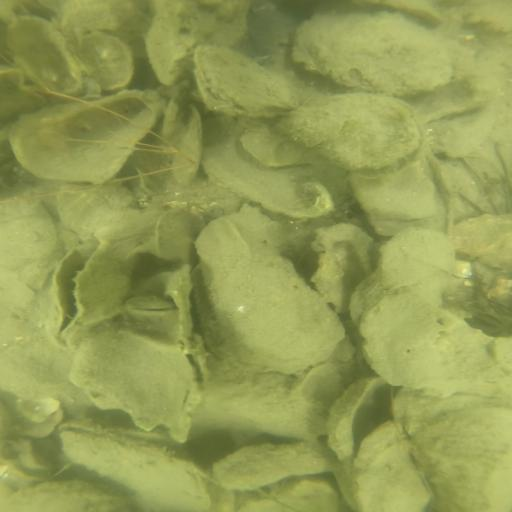Oyster-Closed: (194, 209, 349, 374), (359, 291, 512, 400), (287, 6, 460, 97), (60, 432, 213, 512), (270, 92, 424, 171), (393, 393, 483, 512), (145, 1, 256, 91), (210, 443, 350, 494), (349, 437, 434, 512), (1, 479, 127, 512), (240, 478, 344, 512), (171, 108, 207, 189)
Oyster-Open: (68, 321, 212, 445), (42, 239, 134, 356), (194, 43, 300, 119)
